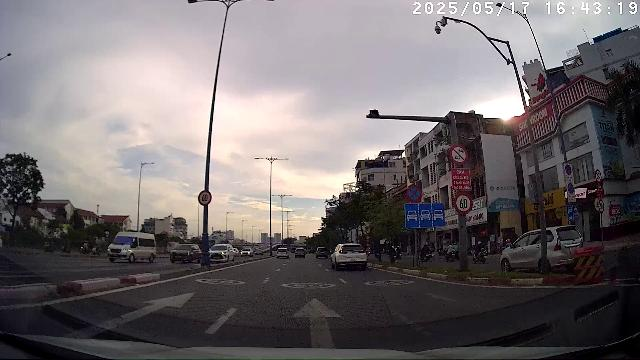127-toc-do-toi-da-60: (453, 192, 473, 214), (198, 190, 212, 206)
130-cam-dung-va-do-xe: (406, 185, 422, 203)
